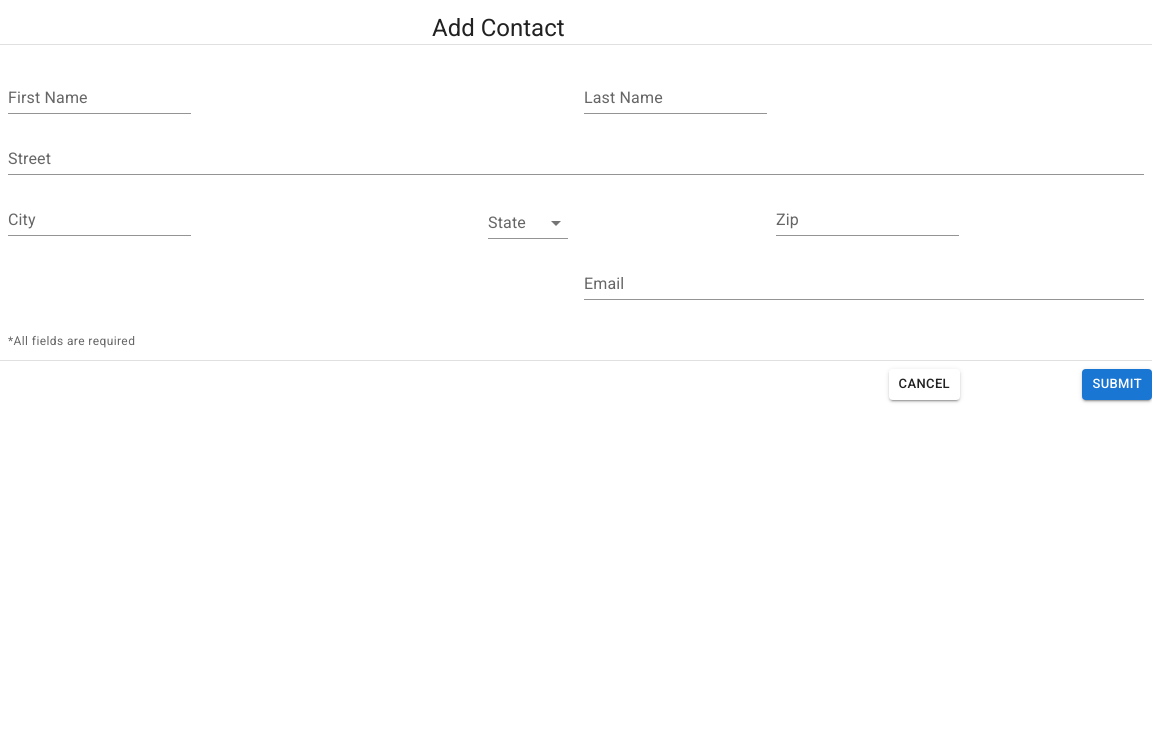
Scenario: Contact Form component › last name input validation
This screenshot has width=1164, height=732.
In the field labelled "Last Name": (676, 100) [584, 85, 767, 114], type "?abc"
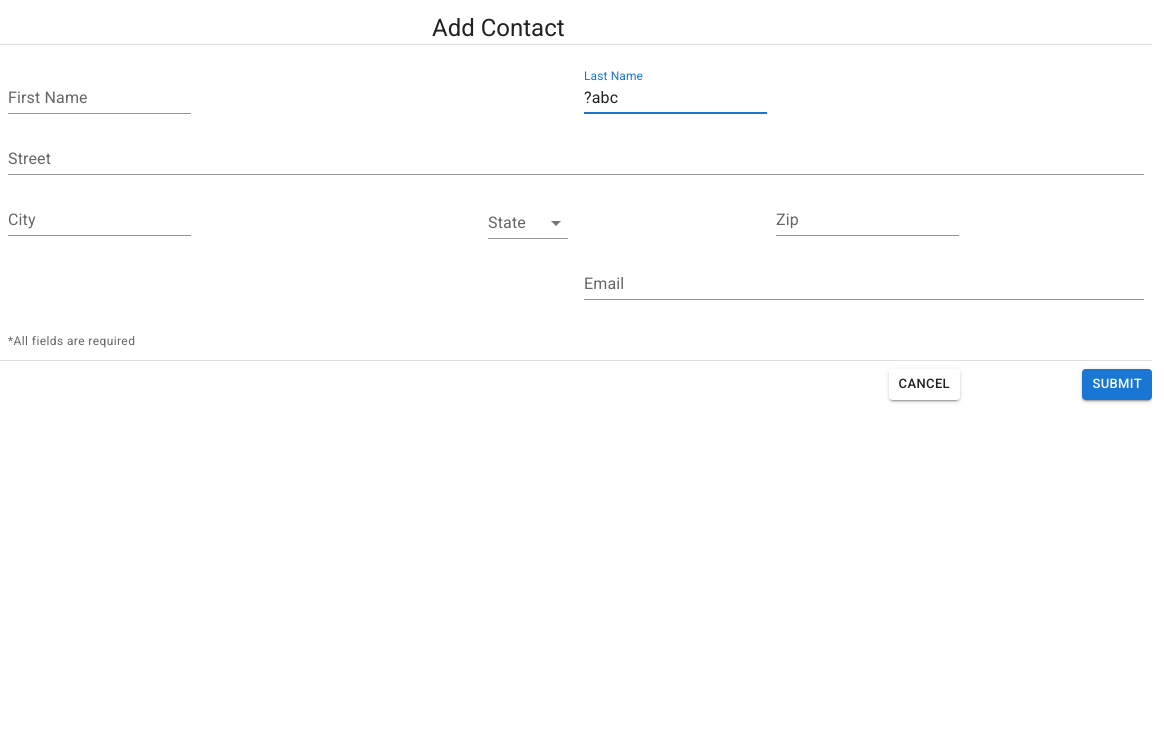
Click the button "Submit": (1117, 384) [1082, 369, 1152, 400]
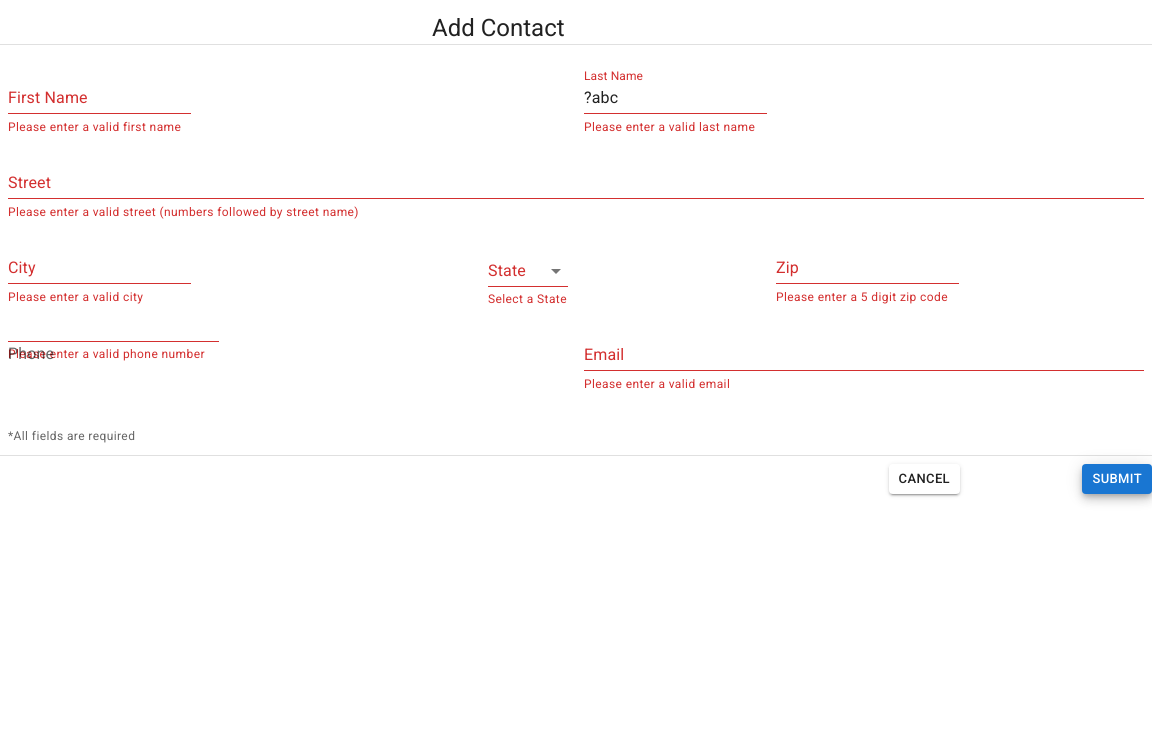
Expected: the text "Please enter a valid last name" is shown, [584, 118, 767, 138]
Replace the text in the field labelled "Last Name" with "Peterson": (676, 100) [584, 85, 767, 114]
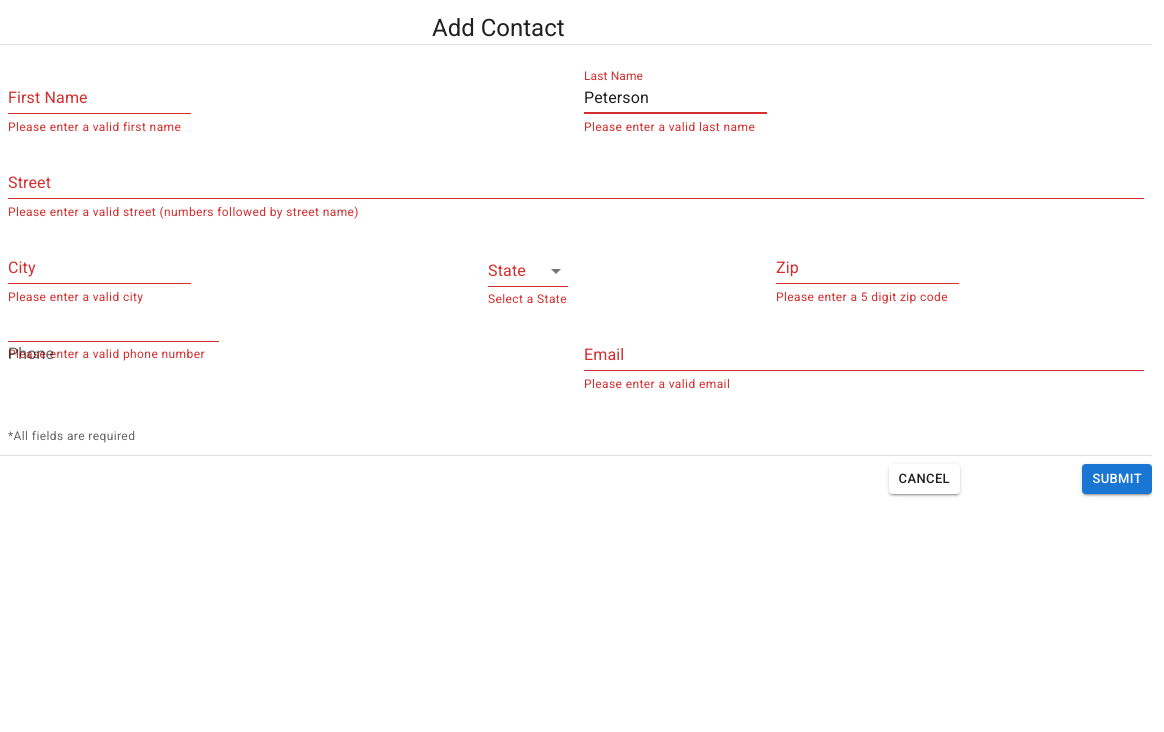
Click the button "Submit": (1117, 479) [1082, 464, 1152, 494]
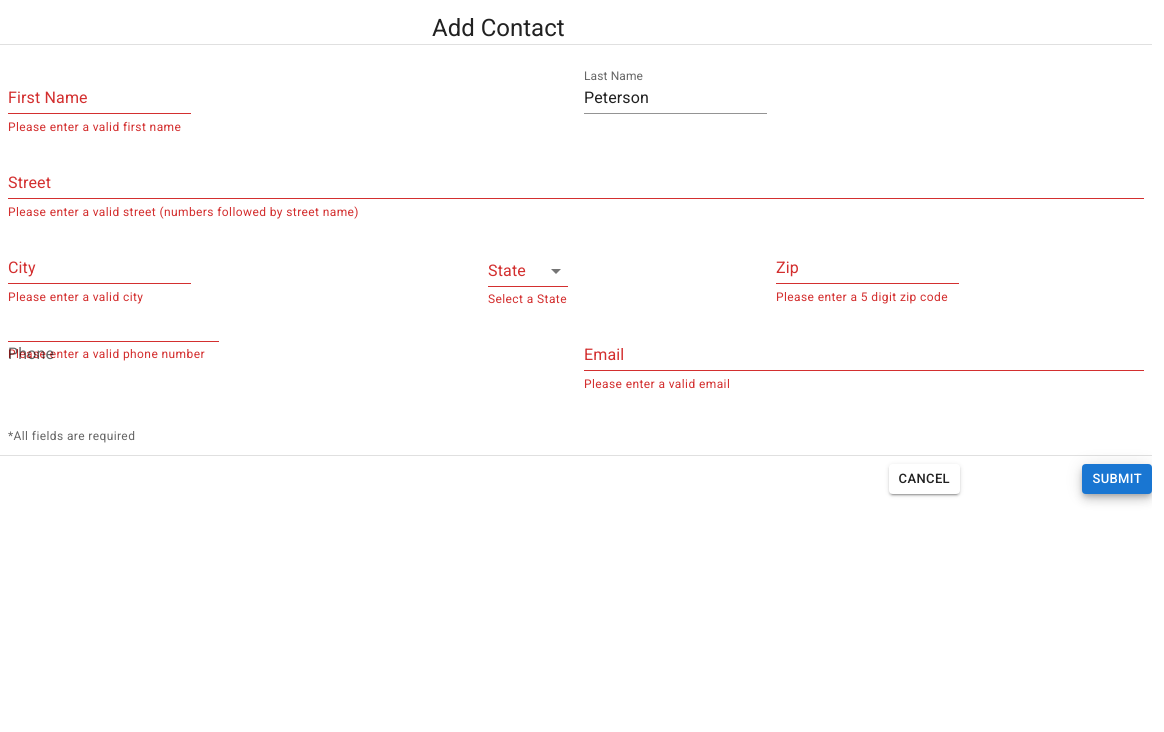
Expected: the text "Please enter a valid last name" is gone
